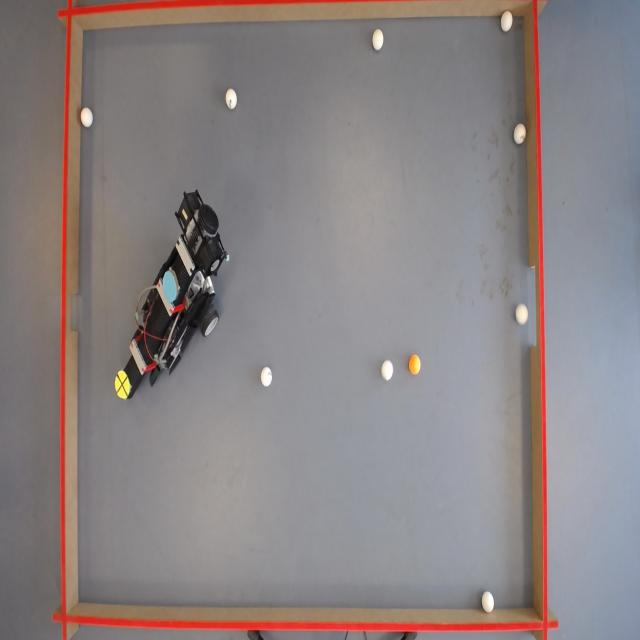orange: (409, 355, 423, 375)
robot: (111, 184, 229, 406)
robot-front: (114, 370, 130, 400)
robot-rear: (162, 270, 180, 304)
white: (482, 591, 497, 614), (372, 29, 386, 51), (514, 124, 528, 146), (500, 10, 513, 32), (516, 305, 530, 325), (80, 107, 93, 128), (224, 90, 237, 110), (382, 360, 394, 381), (262, 365, 274, 386)
